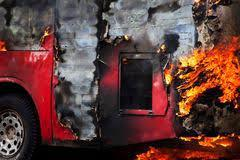fire: (159, 31, 238, 115), (132, 132, 237, 158), (41, 29, 48, 38), (0, 40, 6, 50)
